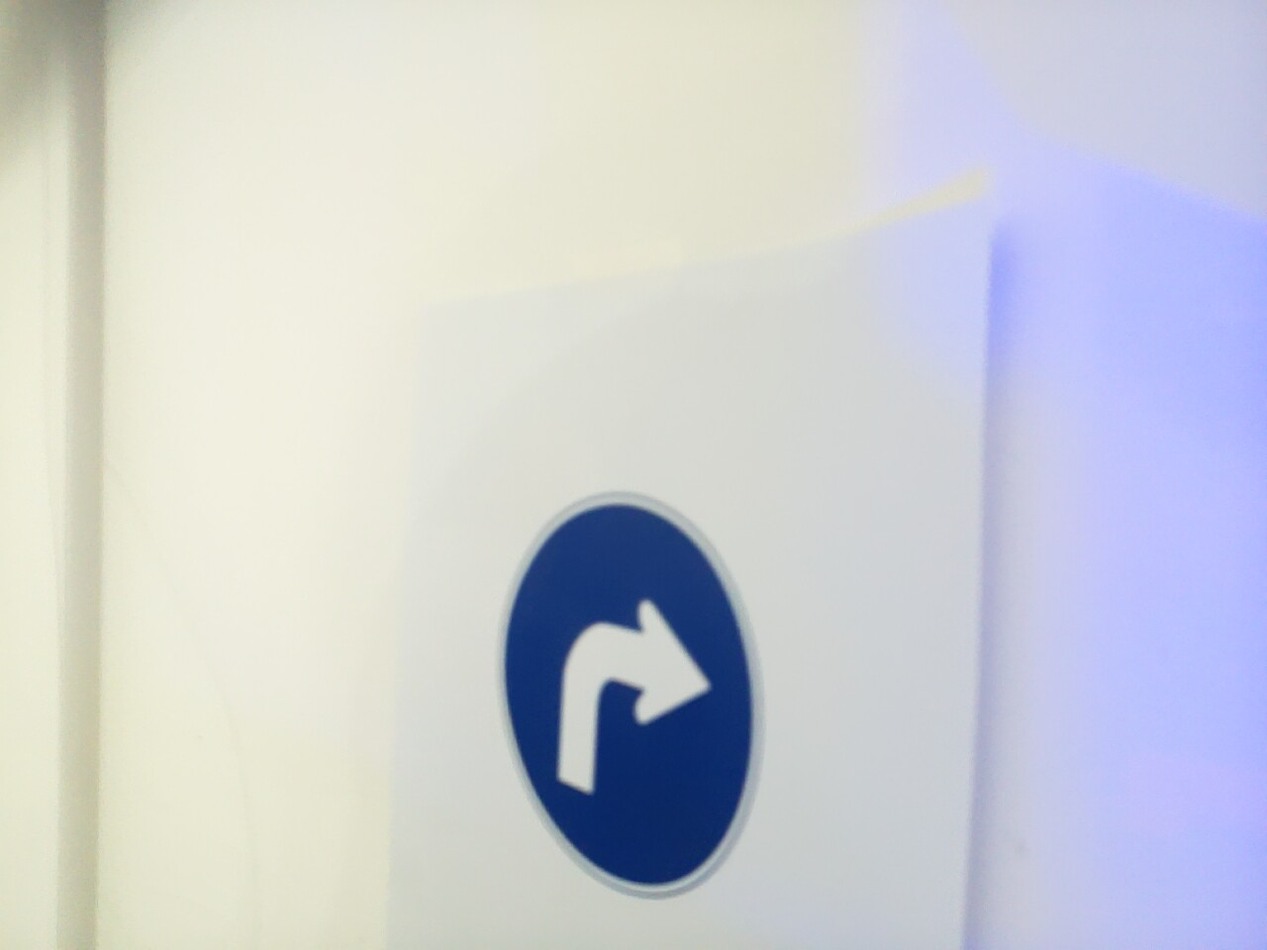right_turn: (496, 493, 762, 897)
